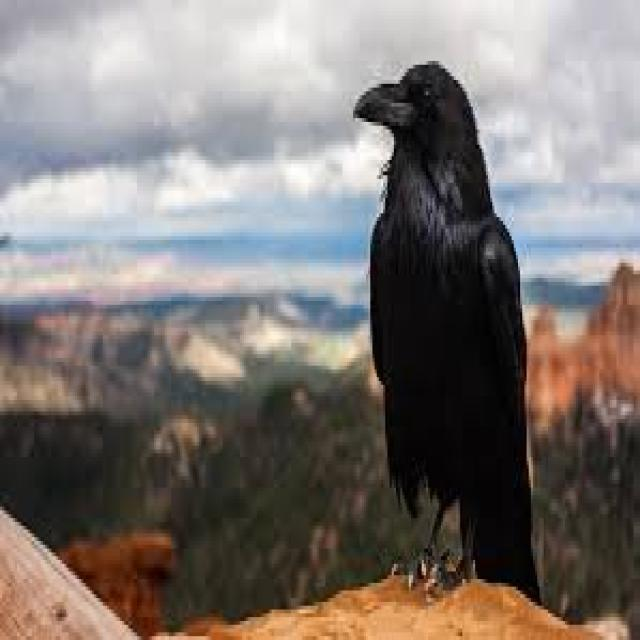dog: (355, 60, 543, 432)
